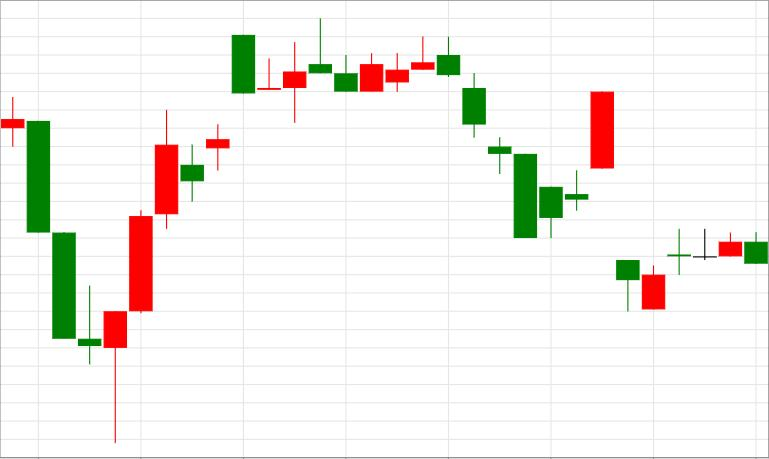hammer_rise: (1, 96, 127, 443)
three_white_soldiers_rise: (1, 96, 178, 444)
